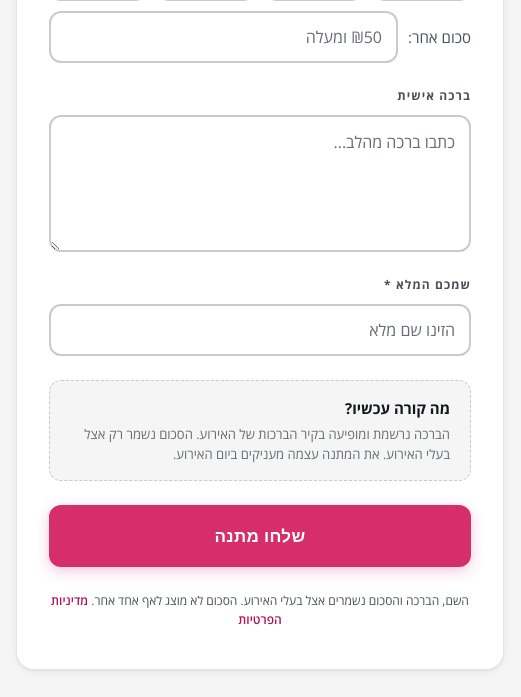
Test: gift errors a guest can act on › a closed link says so
(page scrolled)
Type "משפחת כהן" into the field labelled "שמכם המלא *" at (260, 330), box x1=49 y1=304 x2=471 y2=356
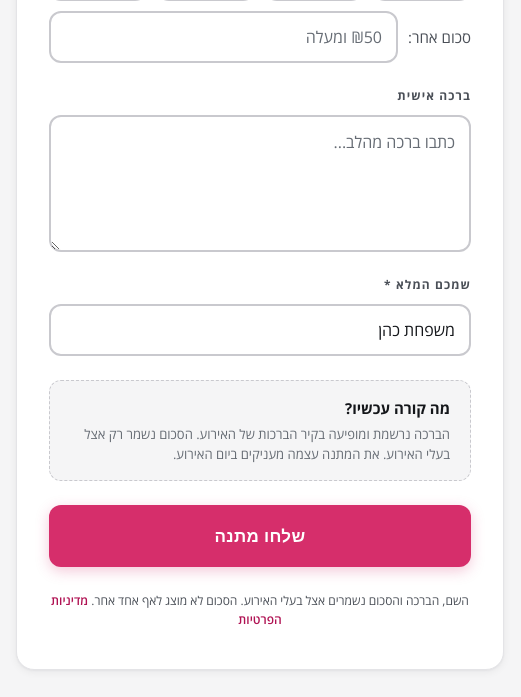
Type "360" into the number field labelled "סכום המתנה" at (224, 37), box x1=49 y1=11 x2=398 y2=63
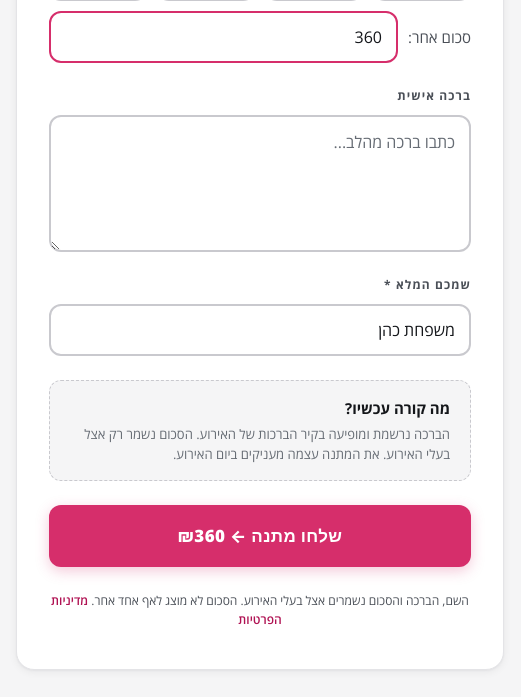
Click the button "שלחו מתנה ← ₪360" at (260, 536), box x1=49 y1=505 x2=471 y2=566
(page scrolled)
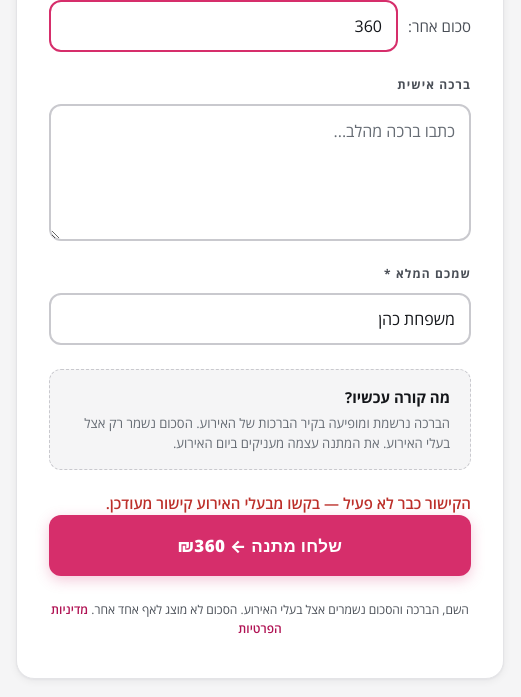
Expected: the text "הקישור כבר לא פעיל — בקשו מבעלי האירוע קישור מעודכן." is shown, x1=49 y1=492 x2=471 y2=514
